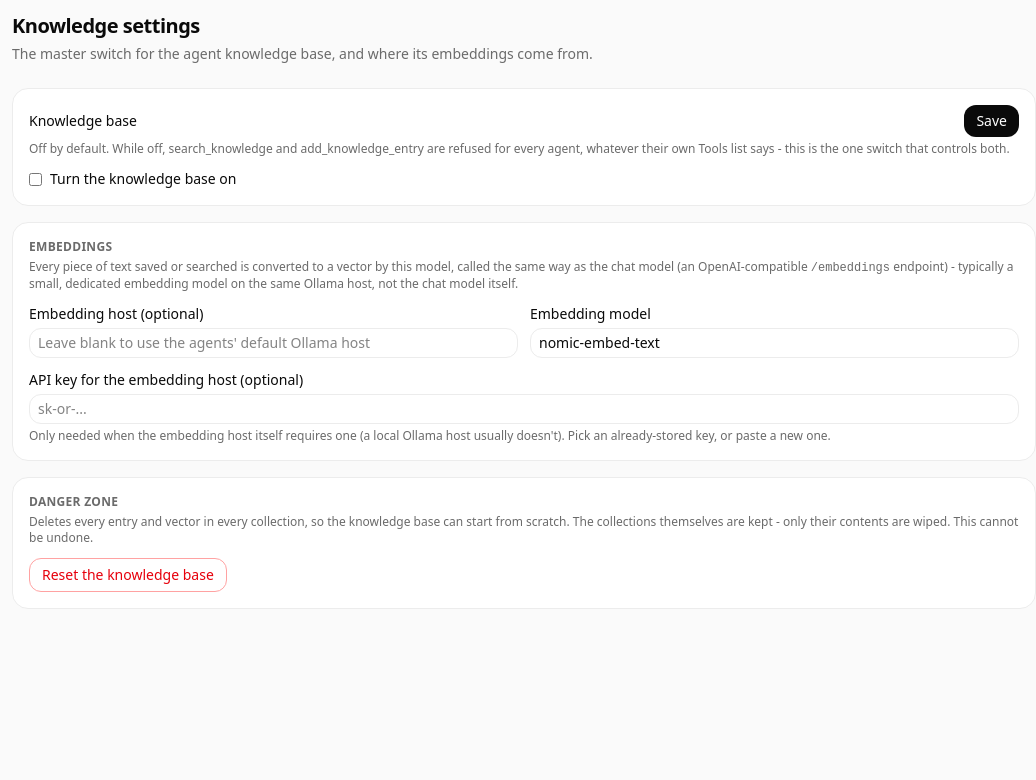
Test: KnowledgeSettingsPage › turns the switch on and saves it
Click the checkbox labelled "Turn the knowledge base on".
click(36, 179)  # box [29,172,42,186]
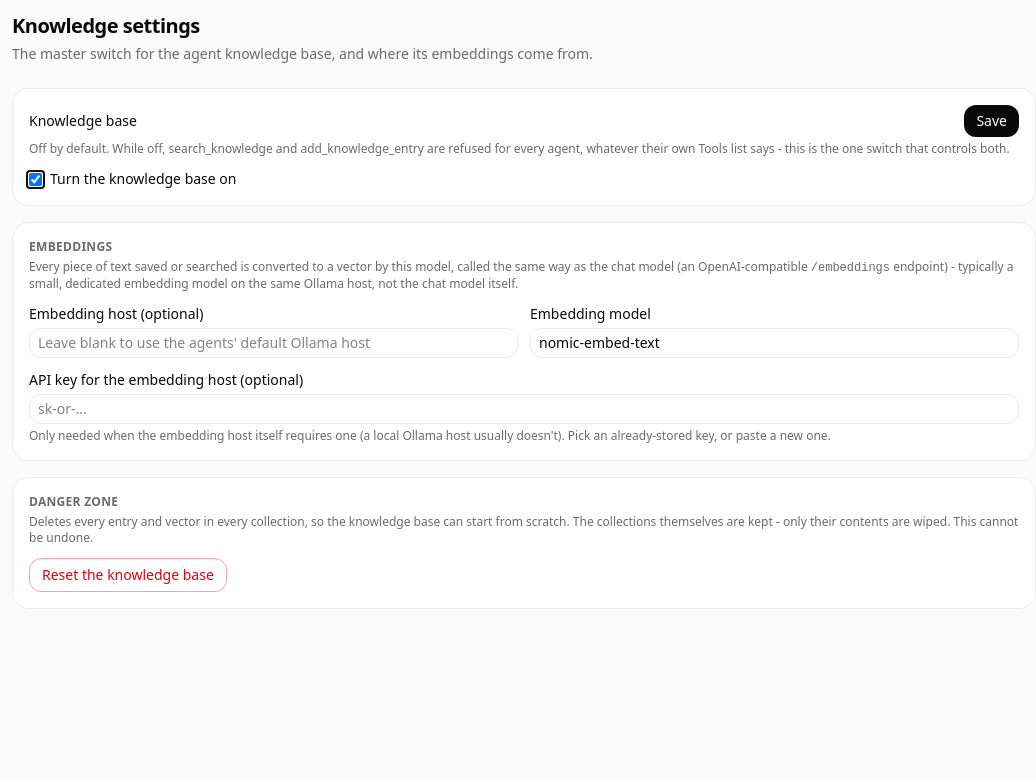
Click the button "Save".
click(992, 121)  # box [964,105,1019,137]
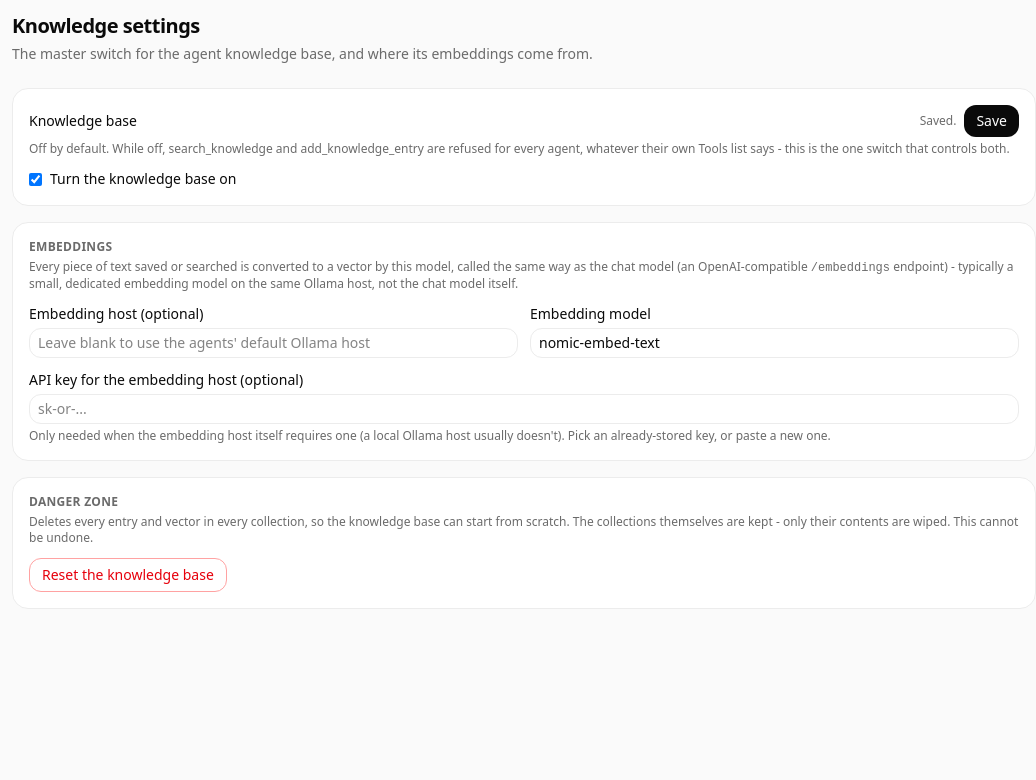
Now the text "Saved." is shown, box [920,113,956,129]
